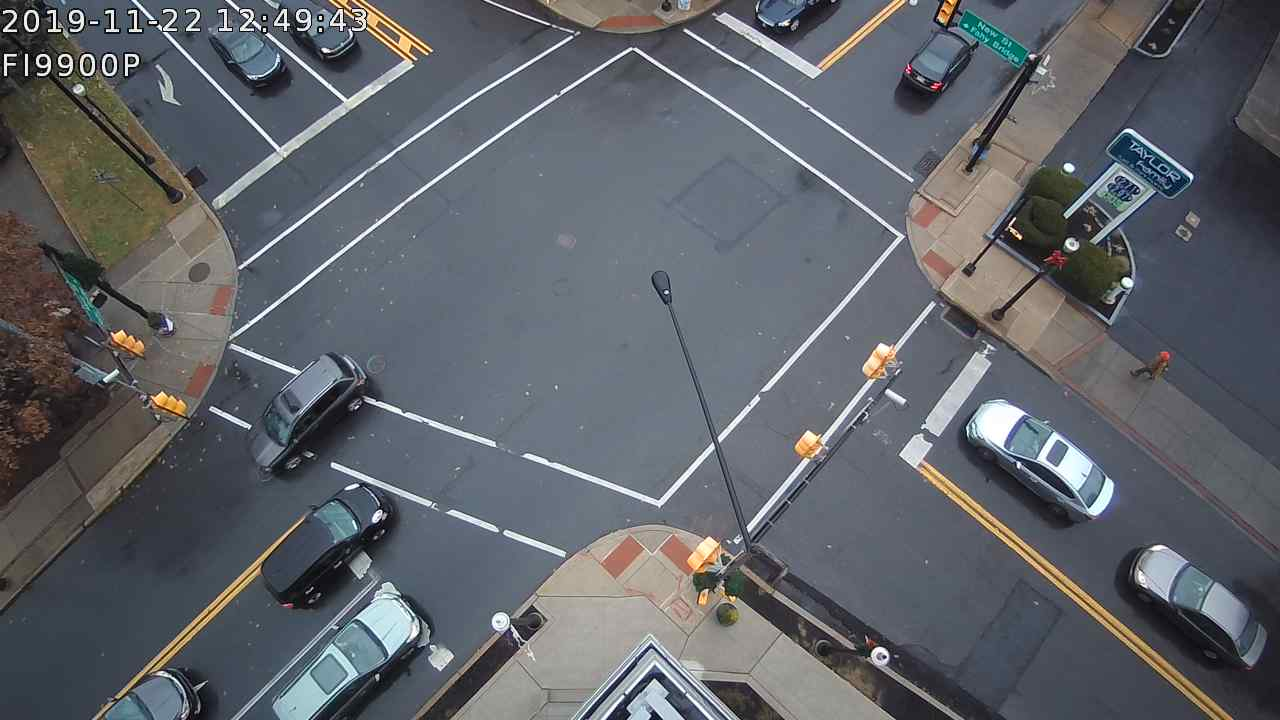car: (240, 590, 426, 716), (962, 395, 1115, 521), (1126, 542, 1267, 663), (247, 349, 378, 475), (259, 481, 393, 598), (206, 17, 293, 99), (82, 662, 202, 720), (904, 20, 977, 100), (284, 1, 359, 63), (753, 1, 842, 36)
